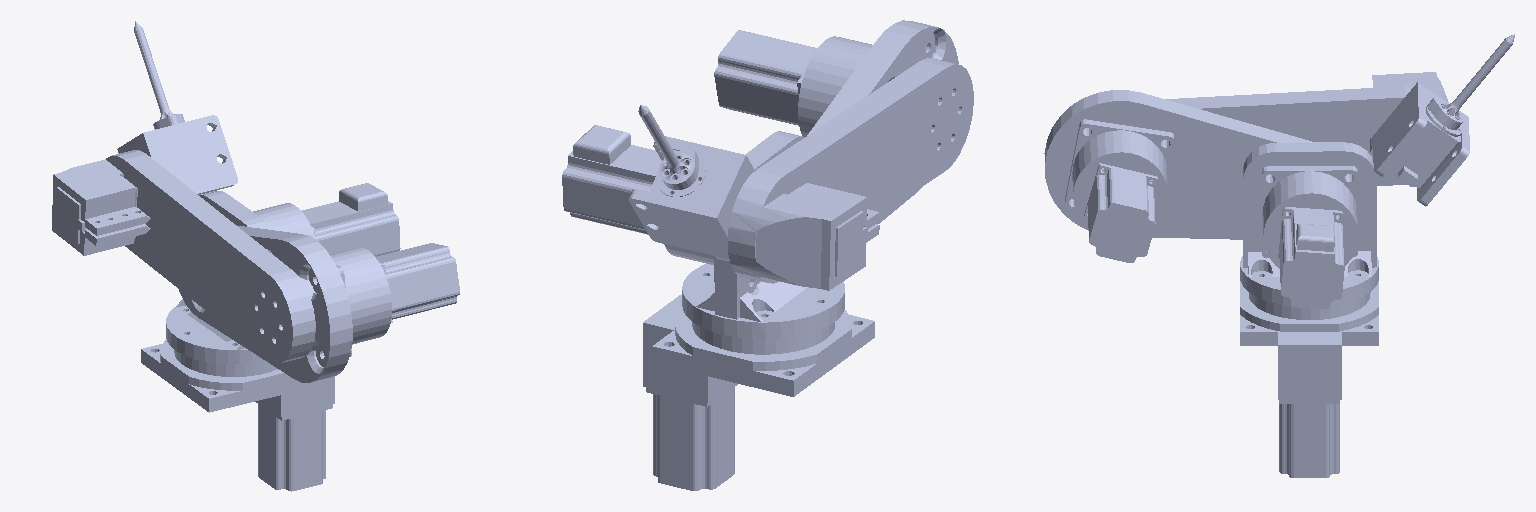
The robot description file, URDF, robot "armassem1":
<?xml version="1.0" encoding="utf-8"?>
<!-- This URDF was automatically created by SolidWorks to URDF Exporter! Originally created by Stephen Brawner (brawner@gmail.com) 
     Commit Version: 1.6.0-4-g7f85cfe  Build Version: 1.6.7995.38578
     For more information, please see http://wiki.ros.org/sw_urdf_exporter -->
<robot
  name="armassem1">
  <link
    name="base_link">
    <inertial>
      <origin
        xyz="0.0349237105962137 9.43689570931383E-16 -0.0227211978020699"
        rpy="0 0 0" />
      <mass
        value="0.757810573021914" />
      <inertia
        ixx="0.000911546039100459"
        ixy="9.93119423840832E-20"
        ixz="0.000186403543827476"
        iyy="0.00138565534873441"
        iyz="1.38615041934029E-20"
        izz="0.00175776275854375" />
    </inertial>
    <visual>
      <origin
        xyz="0 0 0"
        rpy="0 0 0" />
      <geometry>
        <mesh
          filename="package://my_robot_description/meshes/base_link.STL" />
      </geometry>
      <material
        name="">
        <color
          rgba="0.792156862745098 0.819607843137255 0.933333333333333 1" />
      </material>
    </visual>
    <collision>
      <origin
        xyz="0 0 0"
        rpy="0 0 0" />
      <geometry>
        <mesh
          filename="package://my_robot_description/meshes/base_link.STL" />
      </geometry>
    </collision>
  </link>
  <link
    name="Joint_1_Link">
    <inertial>
      <origin
        xyz="0.0405469299298919 0.0626150506809338 -0.000752064518925455"
        rpy="0 0 0" />
      <mass
        value="1.20678578482328" />
      <inertia
        ixx="0.00189287213190815"
        ixy="-1.35402782159307E-05"
        ixz="-9.86704102524145E-07"
        iyy="0.00162182660523015"
        iyz="1.6034377467274E-06"
        izz="0.0017694470522458" />
    </inertial>
    <visual>
      <origin
        xyz="0 0 0"
        rpy="0 0 0" />
      <geometry>
        <mesh
          filename="package://my_robot_description/meshes/Joint_1_Link.STL" />
      </geometry>
      <material
        name="">
        <color
          rgba="0.792156862745098 0.819607843137255 0.933333333333333 1" />
      </material>
    </visual>
    <collision>
      <origin
        xyz="0 0 0"
        rpy="0 0 0" />
      <geometry>
        <mesh
          filename="package://my_robot_description/meshes/Joint_1_Link.STL" />
      </geometry>
    </collision>
  </link>
  <joint
    name="Joint_1_Joint"
    type="revolute">
    <origin
      xyz="0 0 0.0395"
      rpy="1.5707963267949 0 0" />
    <parent
      link="base_link" />
    <child
      link="Joint_1_Link" />
    <axis
      xyz="0 1 0" />
    <limit
      lower="0"
      upper="3"
      effort="10"
      velocity="10" />
    <dynamics
      damping="0.1"
      friction="0.1" />
  </joint>
  <link
    name="Joint_2_Link">
    <inertial>
      <origin
        xyz="0.141005083547914 0.0248630006521554 -0.0184917815755161"
        rpy="0 0 0" />
      <mass
        value="1.35022943079148" />
      <inertia
        ixx="0.00163542822233478"
        ixy="-0.000467823717815473"
        ixz="-4.6739922817519E-06"
        iyy="0.00420609843101496"
        iyz="-8.24151661478894E-07"
        izz="0.00493640337425489" />
    </inertial>
    <visual>
      <origin
        xyz="0 0 0"
        rpy="0 0 0" />
      <geometry>
        <mesh
          filename="package://my_robot_description/meshes/Joint_2_Link.STL" />
      </geometry>
      <material
        name="">
        <color
          rgba="0.792156862745098 0.819607843137255 0.933333333333333 1" />
      </material>
    </visual>
    <collision>
      <origin
        xyz="0 0 0"
        rpy="0 0 0" />
      <geometry>
        <mesh
          filename="package://my_robot_description/meshes/Joint_2_Link.STL" />
      </geometry>
    </collision>
  </link>
  <joint
    name="Joint_2_Joint"
    type="revolute">
    <origin
      xyz="-0.016597 0.075 0.00028971"
      rpy="0 -1.5533 0" />
    <parent
      link="Joint_1_Link" />
    <child
      link="Joint_2_Link" />
    <axis
      xyz="0 0 1" />
    <limit
      lower="0"
      upper="3"
      effort="10"
      velocity="10" />
    <dynamics
      damping="0.1"
      friction="0.1" />
  </joint>
  <link
    name="Joint_3_Link">
    <inertial>
      <origin
        xyz="-0.0378423132746606 0.163913074985648 -0.0229417264709312"
        rpy="0 0 0" />
      <mass
        value="1.00180627644925" />
      <inertia
        ixx="0.00899364481371942"
        ixy="0.00186483025601723"
        ixz="-0.000148170720752349"
        iyy="0.00134432679410632"
        iyz="0.000641797835347055"
        izz="0.00962203685211232" />
    </inertial>
    <visual>
      <origin
        xyz="0 0 0"
        rpy="0 0 0" />
      <geometry>
        <mesh
          filename="package://my_robot_description/meshes/Joint_3_Link.STL" />
      </geometry>
      <material
        name="">
        <color
          rgba="0.792156862745098 0.819607843137255 0.933333333333333 1" />
      </material>
    </visual>
    <collision>
      <origin
        xyz="0 0 0"
        rpy="0 0 0" />
      <geometry>
        <mesh
          filename="package://my_robot_description/meshes/Joint_3_Link.STL" />
      </geometry>
    </collision>
  </link>
  <joint
    name="Joint_3_Joint"
    type="revolute">
    <origin
      xyz="0.177265395542198 0.0312566719800476 0.0266"
      rpy="-3.14159265358979 0 -1.39626340159547" />
    <parent
      link="Joint_2_Link" />
    <child
      link="Joint_3_Link" />
    <axis
      xyz="0 0 1" />
    <limit
      lower="0"
      upper="3"
      effort="10"
      velocity="10" />
    <dynamics
      damping="0.1"
      friction="0.1" />
  </joint>
  <link
    name="Joint_4_Link">
    <inertial>
      <origin
        xyz="0.0127282167932845 0.0345924928063405 -0.0151688980907147"
        rpy="0 0 0" />
      <mass
        value="0.288410929877738" />
      <inertia
        ixx="0.000222449744842067"
        ixy="-3.42038497163042E-06"
        ixz="1.41427504243203E-05"
        iyy="0.000219463160870434"
        iyz="4.07625607799588E-06"
        izz="0.000217462247879599" />
    </inertial>
    <visual>
      <origin
        xyz="0 0 0"
        rpy="0 0 0" />
      <geometry>
        <mesh
          filename="package://my_robot_description/meshes/Joint_4_Link.STL" />
      </geometry>
      <material
        name="">
        <color
          rgba="0.792156862745098 0.819607843137255 0.933333333333333 1" />
      </material>
    </visual>
    <collision>
      <origin
        xyz="0 0 0"
        rpy="0 0 0" />
      <geometry>
        <mesh
          filename="package://my_robot_description/meshes/Joint_4_Link.STL" />
      </geometry>
    </collision>
  </link>
  <joint
    name="Joint_4_Joint"
    type="revolute">
    <origin
      xyz="-0.0607367846728427 0.263079917492014 0.00300000000000001"
      rpy="1.5707963267949 0 1.79768912955416" />
    <parent
      link="Joint_3_Link" />
    <child
      link="Joint_4_Link" />
    <axis
      xyz="0 -1 0" />
    <limit
      lower="0"
      upper="2"
      effort="10"
      velocity="10" />
    <dynamics
      damping="0.1"
      friction="0.1" />
  </joint>
  <link
    name="Joint_5_Link">
    <inertial>
      <origin
        xyz="0.000234576046742874 0.000875407587219462 0.029004981155034"
        rpy="0 0 0" />
      <mass
        value="0.0129960868512426" />
      <inertia
        ixx="1.35852137245841E-05"
        ixy="-4.40597431683759E-08"
        ixz="7.318151748862E-08"
        iyy="1.3432556587972E-05"
        iyz="2.73113871302968E-07"
        izz="9.8108922060891E-07" />
    </inertial>
    <visual>
      <origin
        xyz="0 0 0"
        rpy="0 0 0" />
      <geometry>
        <mesh
          filename="package://my_robot_description/meshes/Joint_5_Link.STL" />
      </geometry>
      <material
        name="">
        <color
          rgba="0.792156862745098 0.819607843137255 0.933333333333333 1" />
      </material>
    </visual>
    <collision>
      <origin
        xyz="0 0 0"
        rpy="0 0 0" />
      <geometry>
        <mesh
          filename="package://my_robot_description/meshes/Joint_5_Link.STL" />
      </geometry>
    </collision>
  </link>
  <joint
    name="Joint_5_Joint"
    type="revolute">
    <origin
      xyz="0.0359961061424462 0.046 -0.0428984888146627"
      rpy="-2.44346095279206 0 -1.5707963267949" />
    <parent
      link="Joint_4_Link" />
    <child
      link="Joint_5_Link" />
    <axis
      xyz="0 0 -1" />
    <limit
      lower="0"
      upper="4"
      effort="10"
      velocity="10" />
    <dynamics
      damping="0.1"
      friction="0.1" />
  </joint>
</robot>

--- Render facts (derived) ---
3 views of the same robot in one strip: view 1: azimuth 30°, elevation 25°; view 2: azimuth 150°, elevation 25°; view 3: azimuth 270°, elevation 25° (orthographic).
Robot: armassem1 — 6 links, 5 joints (5 revolute); root link base_link; default pose: all joints at 0.
Links seen in each view (by area): view 1: Joint_3_Link, Joint_2_Link, base_link, Joint_1_Link, Joint_4_Link, Joint_5_Link; view 2: Joint_3_Link, base_link, Joint_1_Link, Joint_2_Link, Joint_4_Link, Joint_5_Link; view 3: Joint_2_Link, Joint_1_Link, base_link, Joint_3_Link, Joint_4_Link, Joint_5_Link.
Link boxes in pixels (x1,y1,x2,y2): Joint_3_Link: [52, 150, 314, 363]; Joint_2_Link: [179, 225, 459, 382]; base_link: [141, 339, 334, 491]; Joint_1_Link: [166, 183, 400, 363]; Joint_4_Link: [117, 115, 237, 194]; Joint_5_Link: [134, 21, 184, 129]; Joint_3_Link: [728, 58, 973, 290]; base_link: [643, 295, 874, 490]; Joint_1_Link: [562, 125, 844, 339]; Joint_2_Link: [714, 20, 958, 285]; Joint_4_Link: [628, 136, 754, 260]; Joint_5_Link: [638, 105, 698, 189]; Joint_2_Link: [1044, 90, 1315, 262]; Joint_1_Link: [1240, 142, 1378, 309]; base_link: [1240, 281, 1378, 477]; Joint_3_Link: [1166, 72, 1448, 185]; Joint_4_Link: [1370, 82, 1469, 206]; Joint_5_Link: [1427, 34, 1514, 129].
Bounding box of the posed robot: 0.2997 × 0.4402 × 0.4165 m (x, y, z).
Meshes: 6 distinct files referenced, 6 mesh visuals loaded (6 binary STL).
